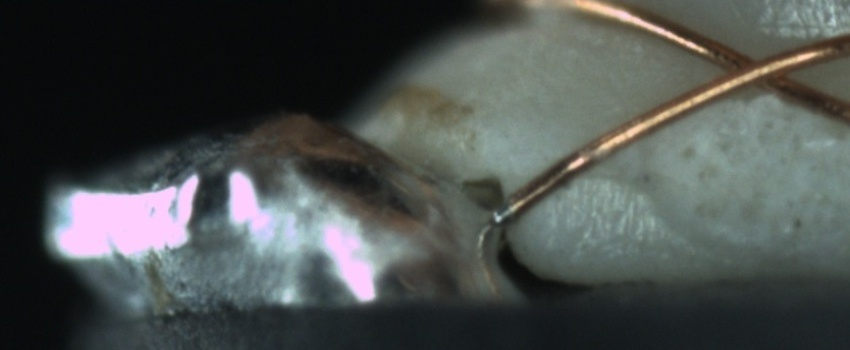CL: (695, 37, 824, 101)
TS: (492, 201, 513, 224)
